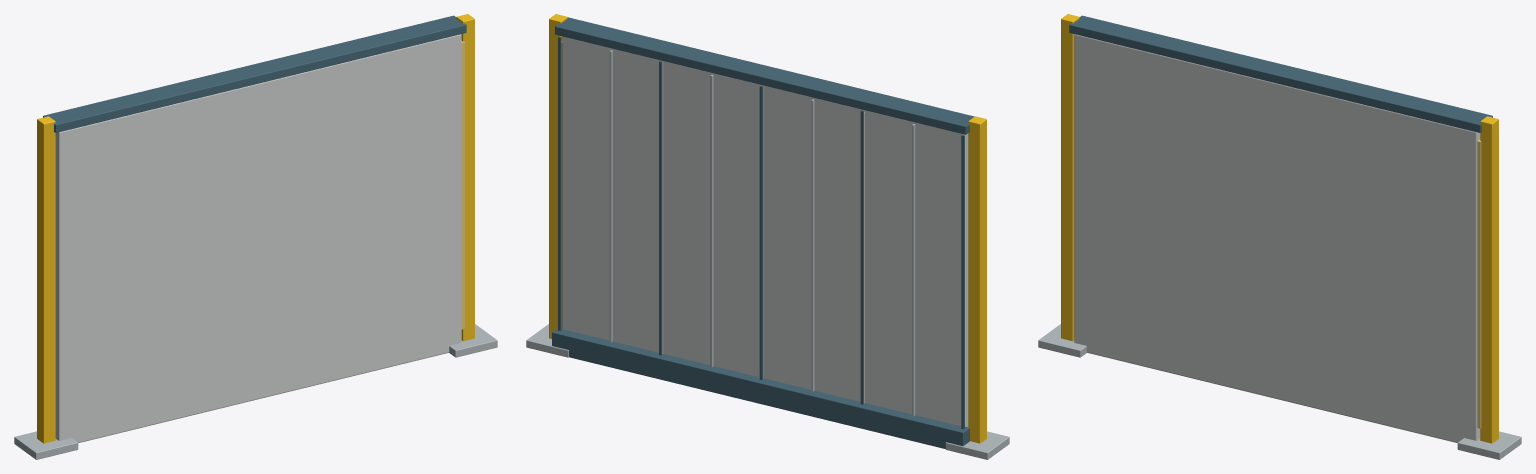
The model's file is parking_barrier_arm.glb.
3 views of the same model, side by side, from view 1: azimuth 30°, elevation 25°; view 2: azimuth 150°, elevation 25°; view 3: azimuth 330°, elevation 25° (orthographic).
Visible parts, largest first — view 1: WALL_core, TOP_cap, GUARD_post_-2.08, GUARD_post_2.08, INSULATION_exposed_edge, GUARD_foot_-2.08, GUARD_foot_2.08; view 2: WALL_core, BASE_flashing, TOP_cap, GUARD_post_-2.08, GUARD_post_2.08, WALL_panel_joint_0, WALL_panel_joint_1, WALL_panel_joint_2, WALL_panel_joint_-1, WALL_panel_joint_-2, WALL_rib_0.5, WALL_rib_-0.5 (+6 smaller); view 3: WALL_core, TOP_cap, GUARD_post_2.08, GUARD_post_-2.08, INSULATION_exposed_edge, GUARD_foot_2.08, GUARD_foot_-2.08.
Part boxes in pixels (x1,y1,x2,y2): WALL_core: (55,34,461,442); TOP_cap: (43,15,466,132); GUARD_post_-2.08: (37,116,55,443); GUARD_post_2.08: (456,14,474,341); INSULATION_exposed_edge: (461,41,464,329); GUARD_foot_-2.08: (14,431,78,459); GUARD_foot_2.08: (449,324,497,357); WALL_core: (562,36,968,426); BASE_flashing: (552,328,969,448); TOP_cap: (555,17,974,134); GUARD_post_-2.08: (968,116,986,443); GUARD_post_2.08: (549,14,567,338); WALL_panel_joint_0: (759,85,763,379); WALL_panel_joint_1: (659,61,662,355); WALL_panel_joint_2: (558,36,561,330); WALL_panel_joint_-1: (860,110,863,404); WALL_panel_joint_-2: (961,135,964,429); WALL_rib_0.5: (710,74,713,367); WALL_rib_-0.5: (811,99,814,391); WALL_core: (1074,34,1480,442); TOP_cap: (1069,15,1492,132); GUARD_post_2.08: (1480,116,1498,443); GUARD_post_-2.08: (1061,14,1079,341); INSULATION_exposed_edge: (1477,139,1481,428); GUARD_foot_2.08: (1457,431,1521,459); GUARD_foot_-2.08: (1038,324,1086,357).
Bounding box in the file's own units: 4.58 × 3.1 × 0.38.
